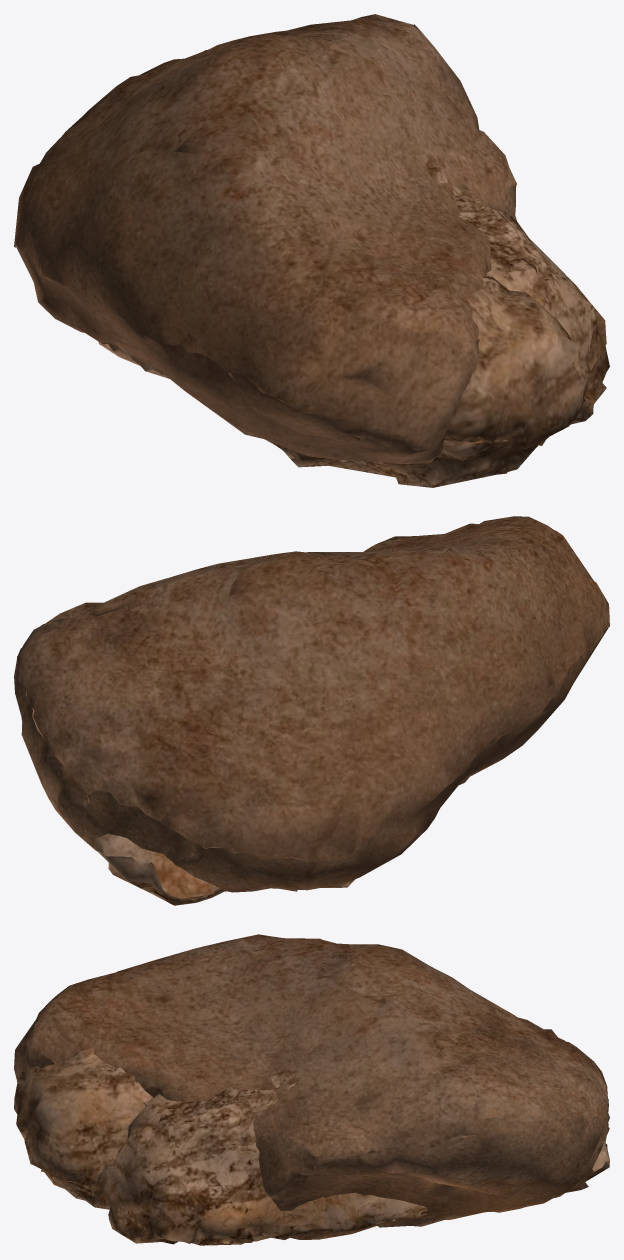
Rendered from talus.glb.
3 renders of one model, top to bottom at view 1: azimuth 30°, elevation 25°; view 2: azimuth 150°, elevation 25°; view 3: azimuth 270°, elevation 25°, orthographic. The views are drawn at different scales.
Parts seen in each view (by area): view 1: oxide-talus-a, oxide-talus-b; view 2: oxide-talus-a, oxide-talus-b; view 3: oxide-talus-a, oxide-talus-b.
Part boxes in pixels (bbox=[...]): oxide-talus-a: bbox=[14, 14, 516, 464]; oxide-talus-b: bbox=[97, 96, 609, 487]; oxide-talus-a: bbox=[14, 516, 609, 892]; oxide-talus-b: bbox=[94, 536, 469, 905]; oxide-talus-a: bbox=[14, 934, 609, 1239]; oxide-talus-b: bbox=[14, 1047, 609, 1245].
Size of the model in its own units: 1.32 by 0.9132 by 2.
1 material, 1 textured.
